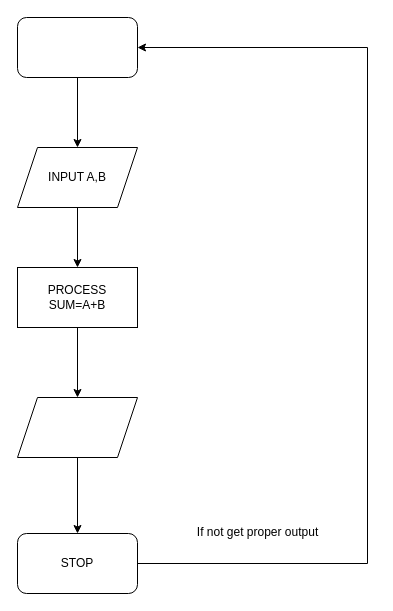
Image size: 393x611. Some labels were removed from this diagram. The shapes that lost their labels are listed below. From the top down, each one's centre as x and y in pixels, then its label:
At [77,47]: "START".
At [77,427]: "OUTPUT SUM".
